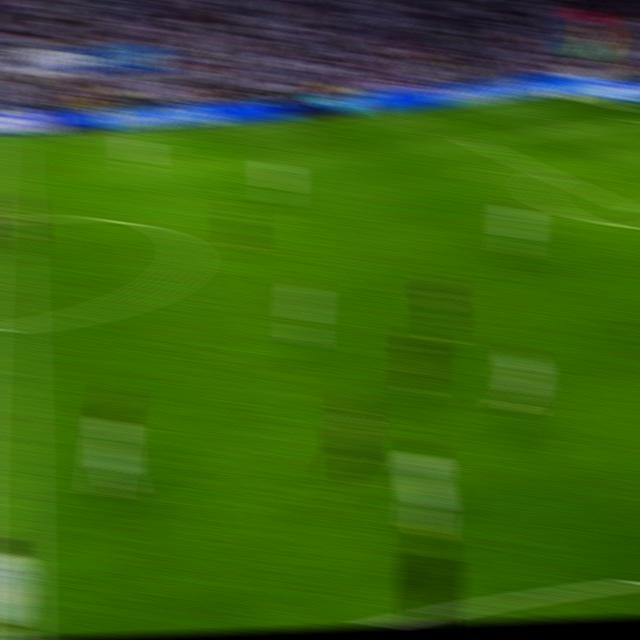halfcircle_bottom: (5, 310, 34, 341)
halfcircle_top: (3, 208, 27, 229)
midline_top_intersection: (1, 134, 24, 147)
top_arc_area_intersection: (538, 164, 562, 183)
